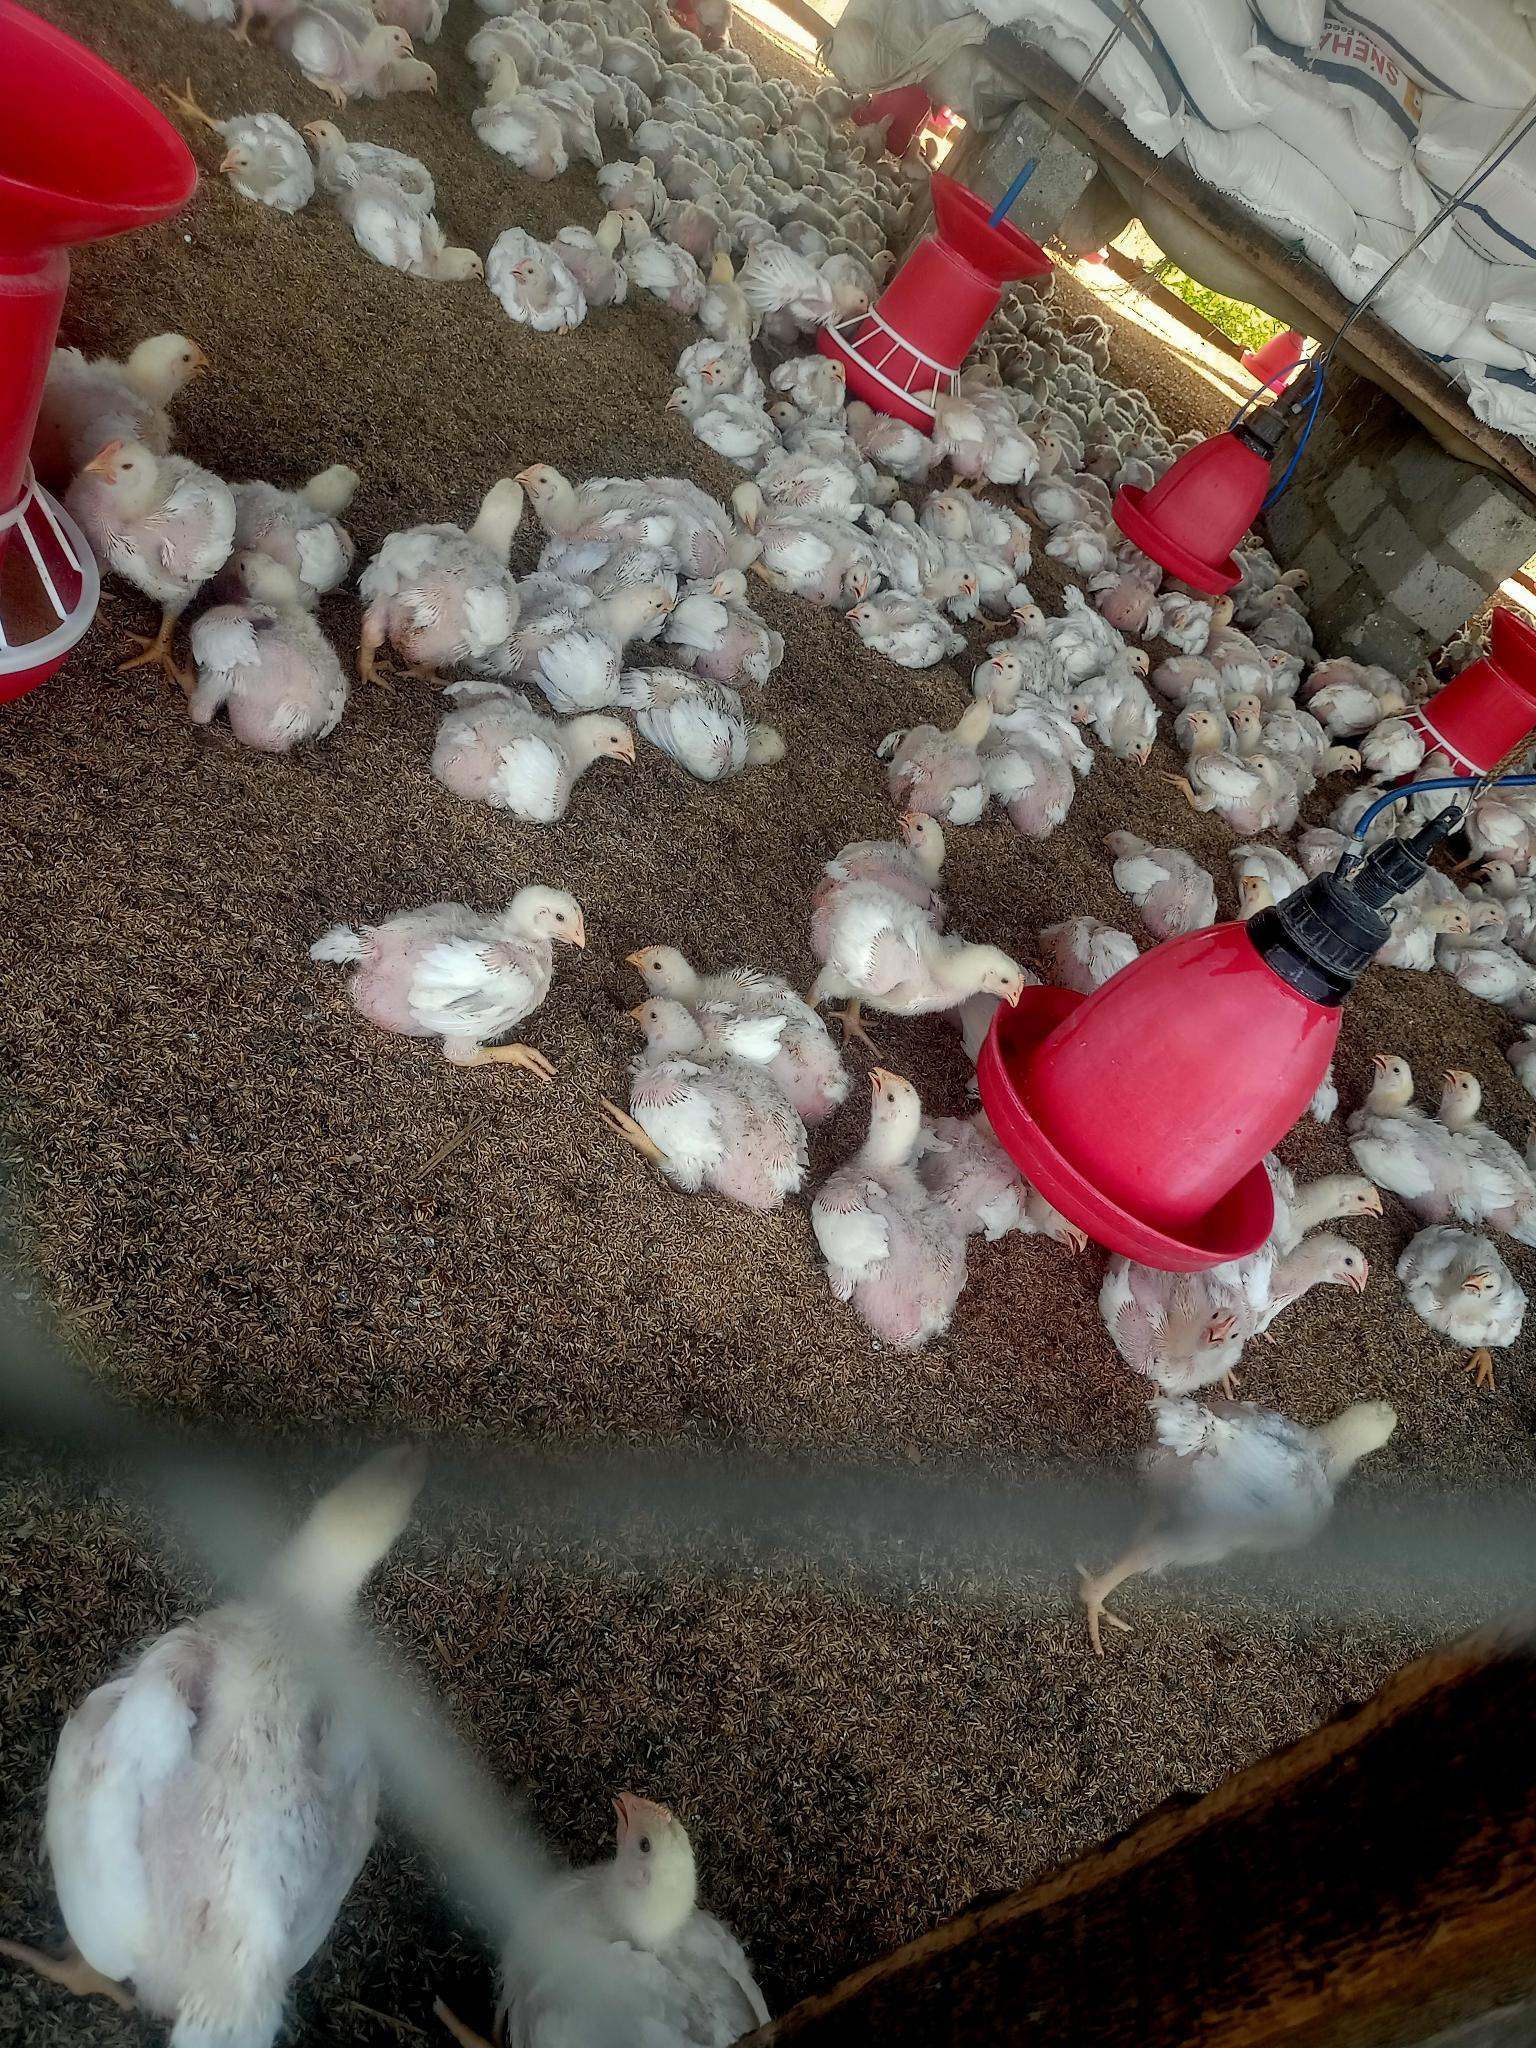Pollos: (61, 1427, 473, 2048), (332, 872, 594, 1059), (581, 1775, 762, 2037), (1142, 1414, 1402, 1558), (620, 1006, 795, 1188), (203, 552, 352, 764), (815, 885, 1028, 1026), (440, 684, 644, 830), (379, 476, 526, 672), (821, 1066, 950, 1266), (516, 461, 742, 568), (66, 435, 221, 589), (339, 168, 492, 292), (1113, 1256, 1254, 1392), (58, 321, 221, 435), (641, 672, 800, 789), (983, 651, 1079, 840), (223, 455, 361, 584), (274, 10, 431, 110), (1099, 822, 1215, 935), (534, 582, 681, 669), (478, 55, 578, 176), (1415, 1221, 1530, 1326), (615, 927, 787, 997), (1347, 1047, 1431, 1182), (307, 118, 444, 198), (845, 805, 970, 892), (1184, 710, 1271, 827), (933, 484, 1018, 603), (842, 597, 975, 672), (681, 574, 786, 666), (495, 223, 586, 327), (768, 511, 874, 598), (900, 701, 978, 816), (205, 105, 295, 198), (1279, 1166, 1392, 1240), (665, 381, 773, 455), (1275, 1230, 1367, 1311), (620, 200, 699, 293), (1442, 1059, 1496, 1192), (1062, 605, 1154, 669), (1391, 911, 1476, 976), (678, 334, 758, 397), (1296, 732, 1368, 784), (795, 348, 850, 416), (1113, 698, 1150, 769)
